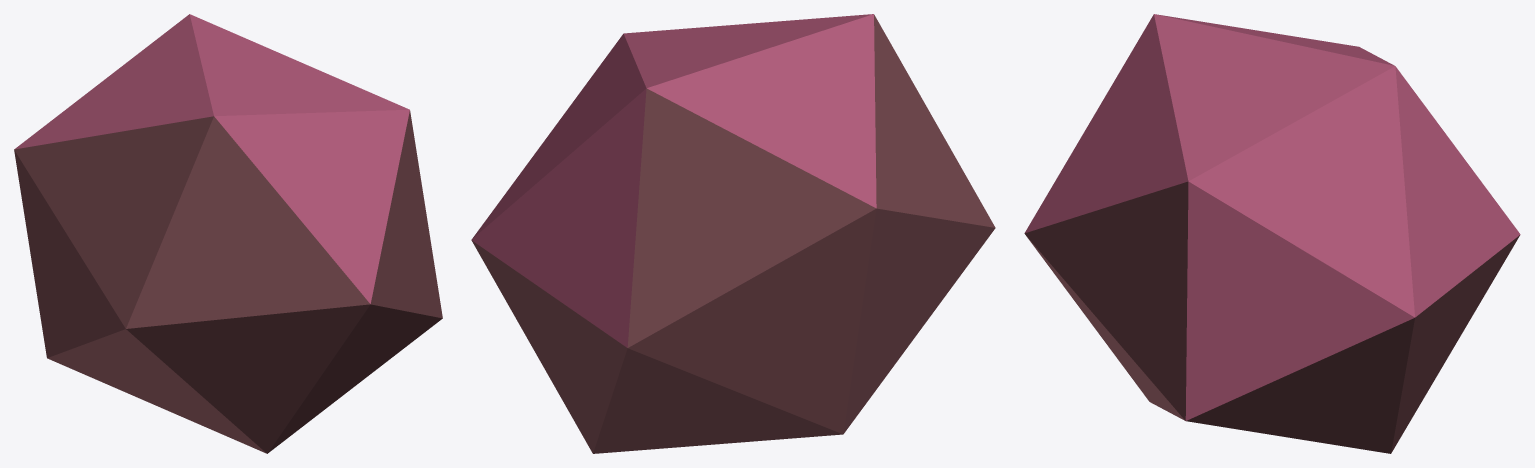
The model's file is rock.glb.
3 renders of one model, left to right at view 1: azimuth 30°, elevation 25°; view 2: azimuth 150°, elevation 25°; view 3: azimuth 270°, elevation 25°, orthographic. The views are drawn at different scales.
Visible parts, largest first — view 1: Rock; view 2: Rock; view 3: Rock.
Part boxes in pixels (box(x1,y1,x2,y2)): Rock: box(14, 14, 442, 453); Rock: box(471, 14, 995, 453); Rock: box(1024, 14, 1520, 453).
Size of the model in its own units: 1.01 by 0.9851 by 1.21.
